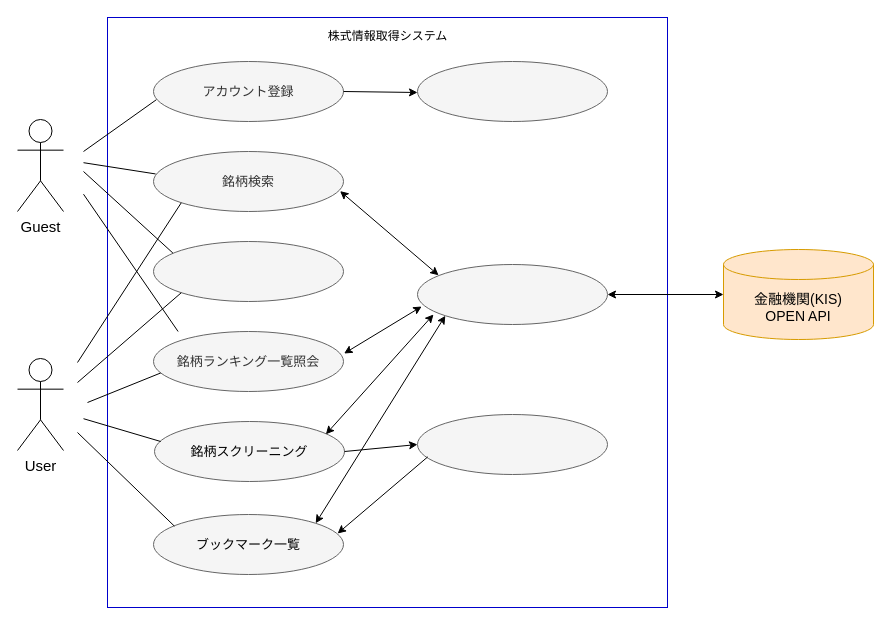
Some shapes in this 891 by 625 pixel diagram are drawn without their labels. The centre of each missing label's shape, as x and y in pixels:
お気に入り銘柄登録: point 512,444
ログイン/ログアウト: point 512,91
英単語学習: point 248,271
銘柄詳細情報照会: point 512,294
